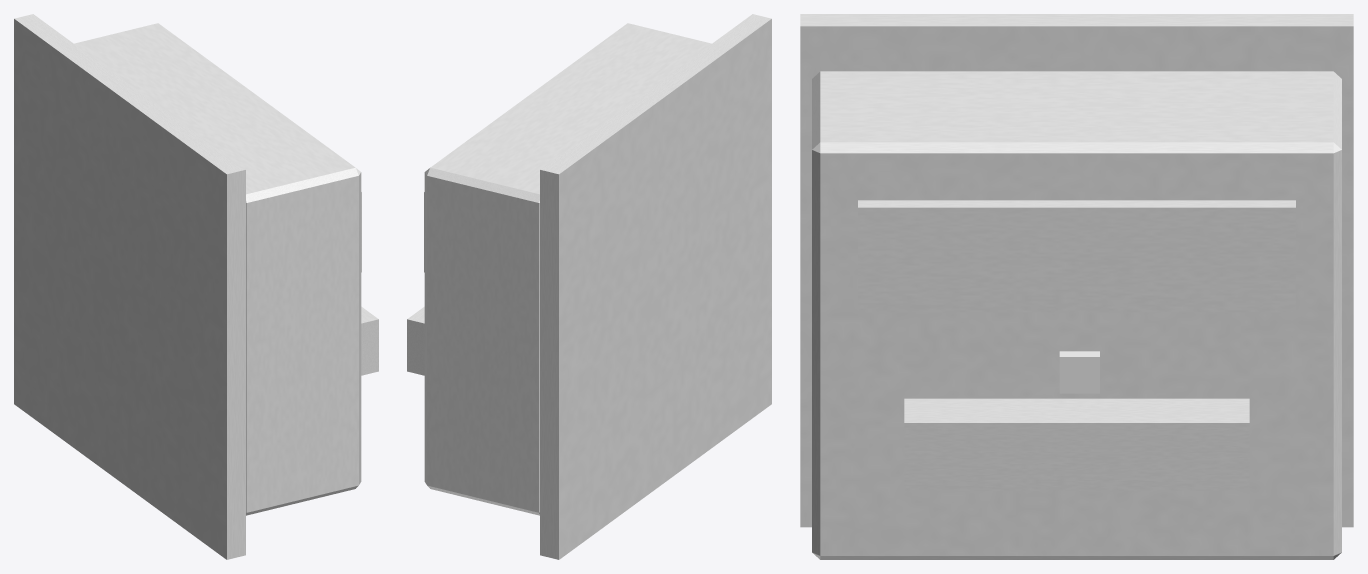
File: firealarm_pull.obj
3 views of the same model, side by side, from view 1: azimuth 30°, elevation 25°; view 2: azimuth 150°, elevation 25°; view 3: azimuth 270°, elevation 25° (orthographic). The views are drawn at different scales.
Visible parts, largest first — view 1: Base, Case, Handle; view 2: Base, Case, Handle; view 3: Case, Label, Base, Handle, LED.
Boxes of the visible parts, <box> form: Base: <box>14,14,245,559</box>; Case: <box>74,23,361,515</box>; Handle: <box>361,306,378,375</box>; Base: <box>540,14,771,559</box>; Case: <box>424,23,711,515</box>; Handle: <box>407,306,424,375</box>; Case: <box>812,71,1341,559</box>; Label: <box>858,200,1295,312</box>; Base: <box>800,14,1353,527</box>; Handle: <box>904,398,1249,490</box>; LED: <box>1059,351,1099,393</box>.
Bounding box in the file's own units: 0.25 × 0.48 × 0.48.
